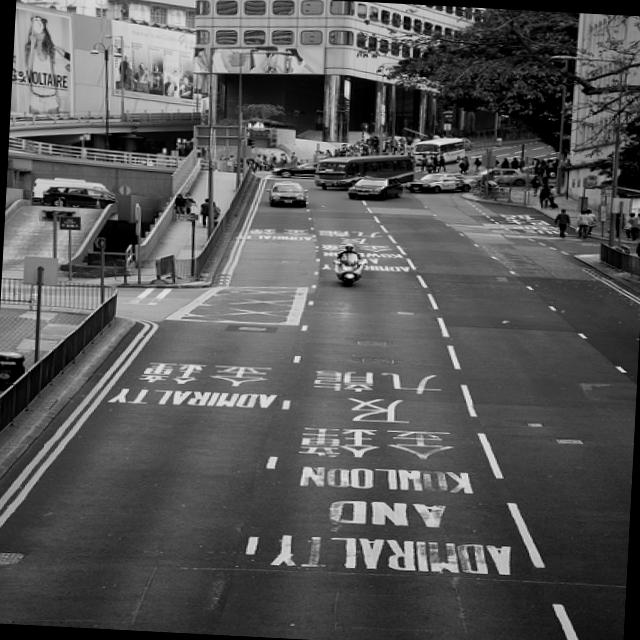Vehicle: (316, 151, 417, 193), (32, 176, 118, 202), (401, 171, 480, 197), (42, 186, 117, 210), (412, 133, 468, 164), (348, 175, 406, 204), (330, 252, 368, 287), (268, 182, 308, 210), (271, 160, 318, 180), (488, 168, 538, 186)
